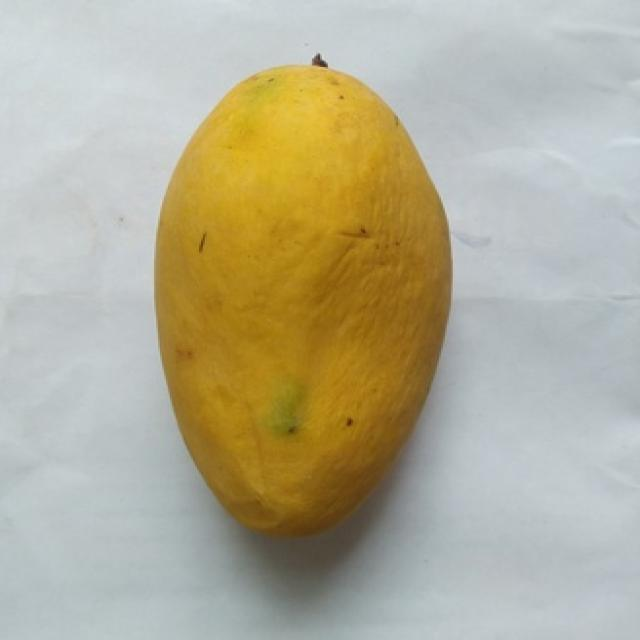Mango: (156, 65, 451, 535)
